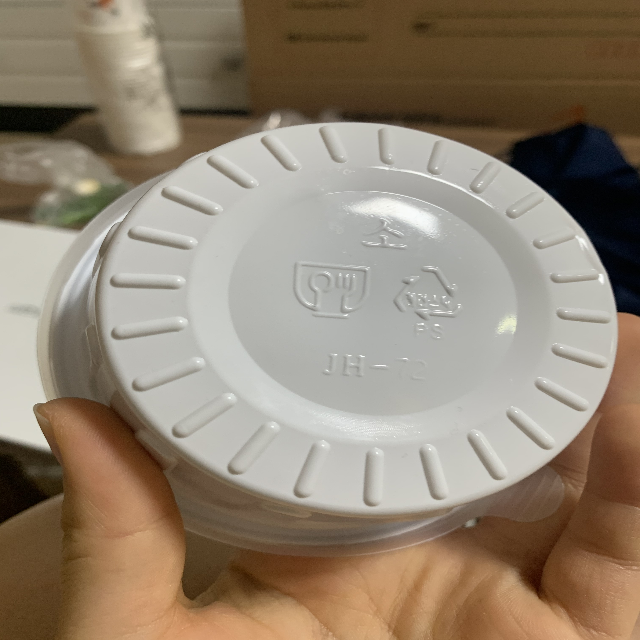ps: (393, 260, 466, 342)
